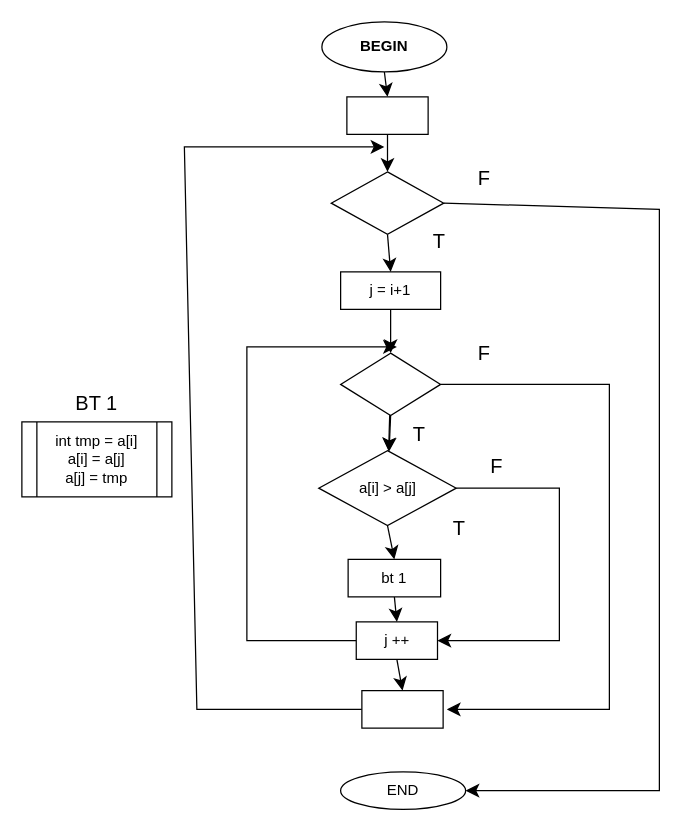
This 694x831 diagram has some shape labels left out. The shapes that lost their labels are listed below. From the top down, each one's centre as x and y in pixels, then its label:
point 387,115: i =0
point 387,202: i<n-1
point 390,384: j <n
point 402,708: i++
